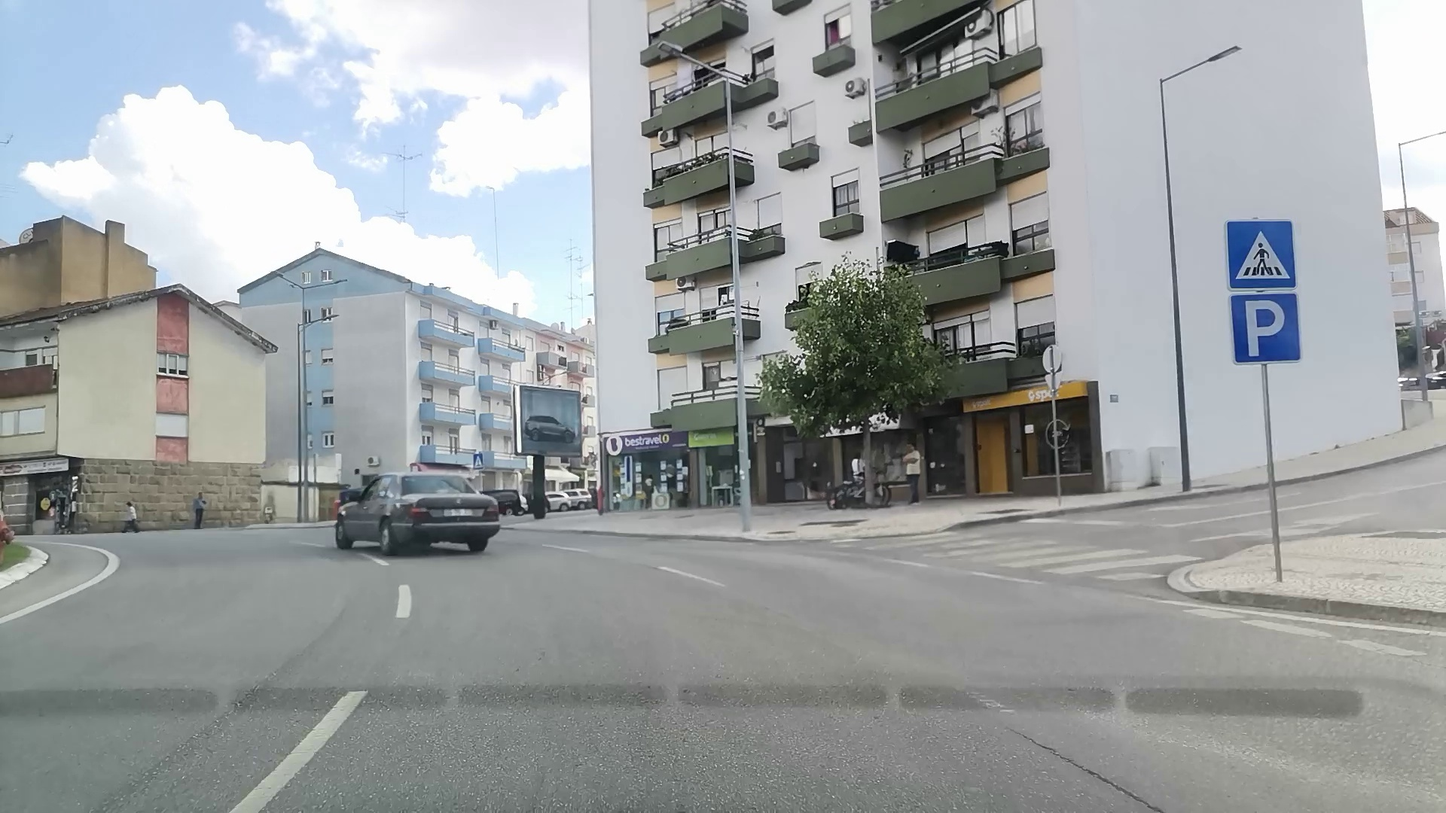Stairs: (875, 527, 1201, 592)
